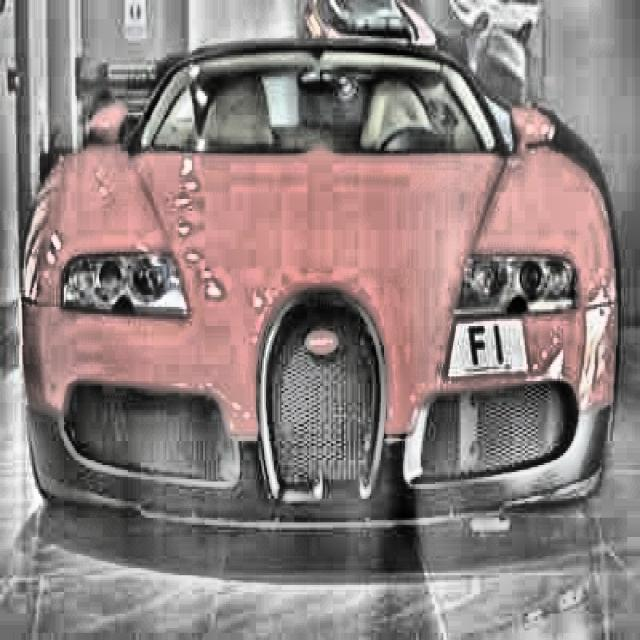license_plate: (454, 321, 525, 381)
